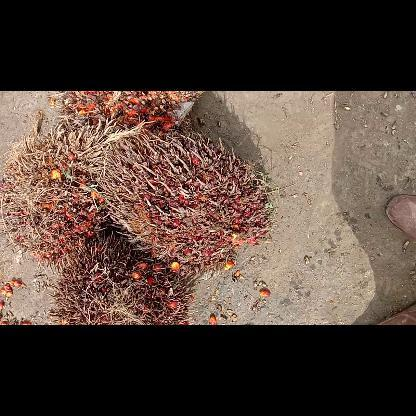Terlalu masak: (100, 131, 272, 271), (0, 118, 116, 262), (50, 232, 192, 324), (55, 90, 200, 130)
